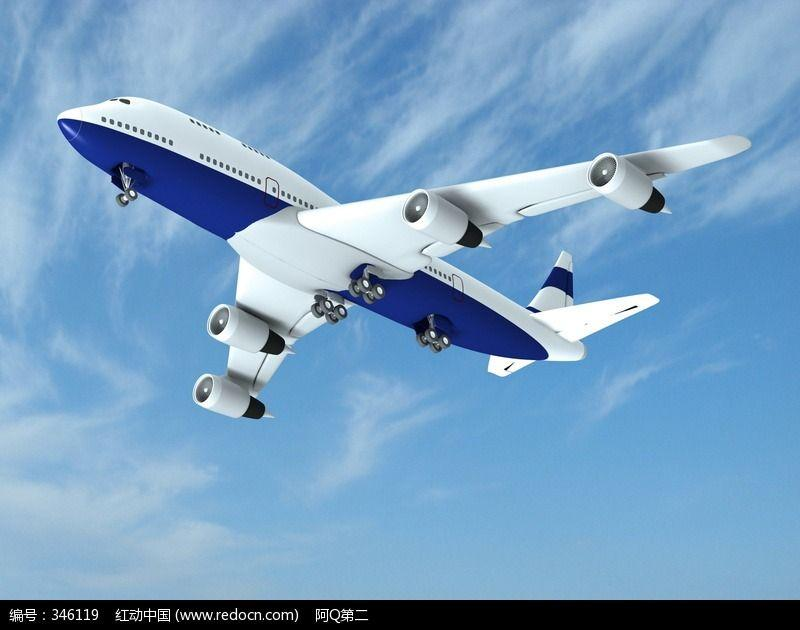airplane: (46, 71, 758, 422)
